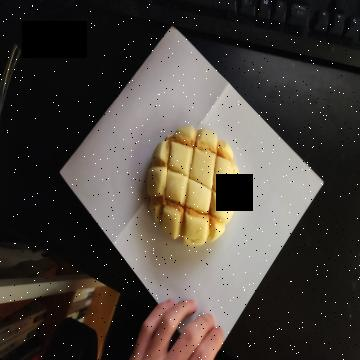melon_bread: (144, 128, 241, 246)
